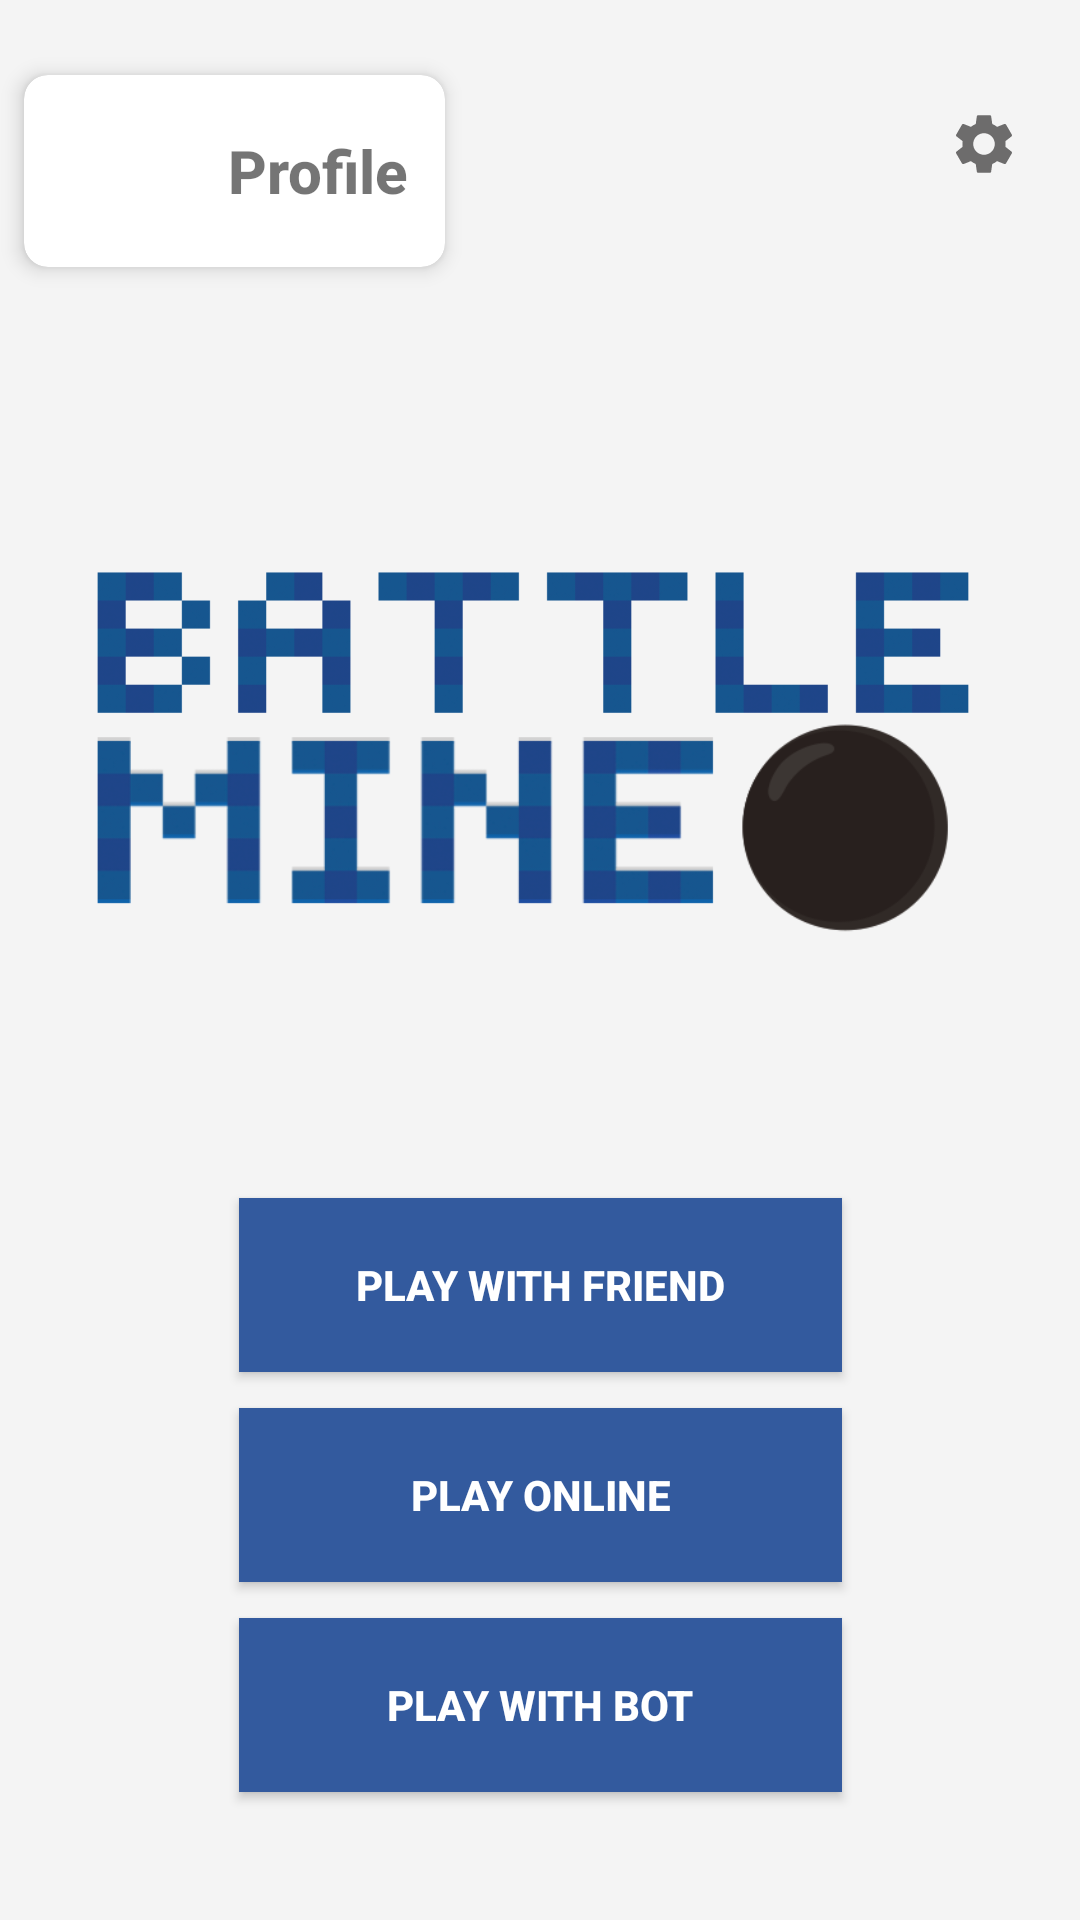

Icons on this 1080px x 1920px Android screen, each with the point to tap as [x,y]:
settings: [984,144]
